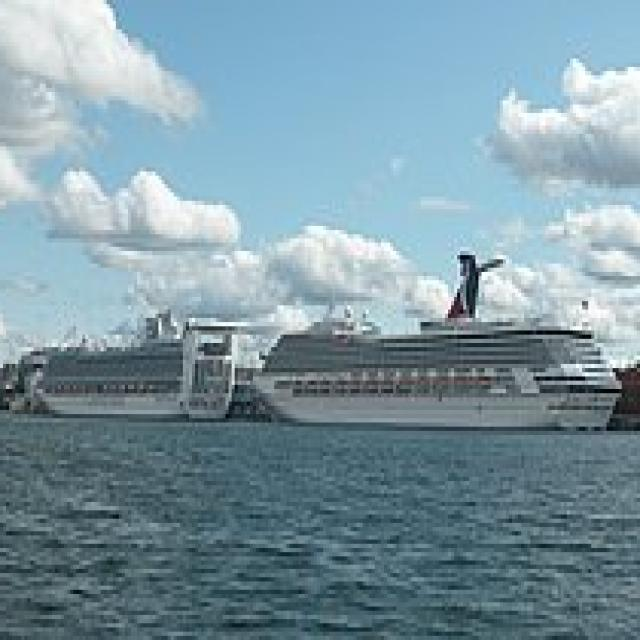Cruise: (253, 247, 628, 431), (36, 306, 240, 418)
